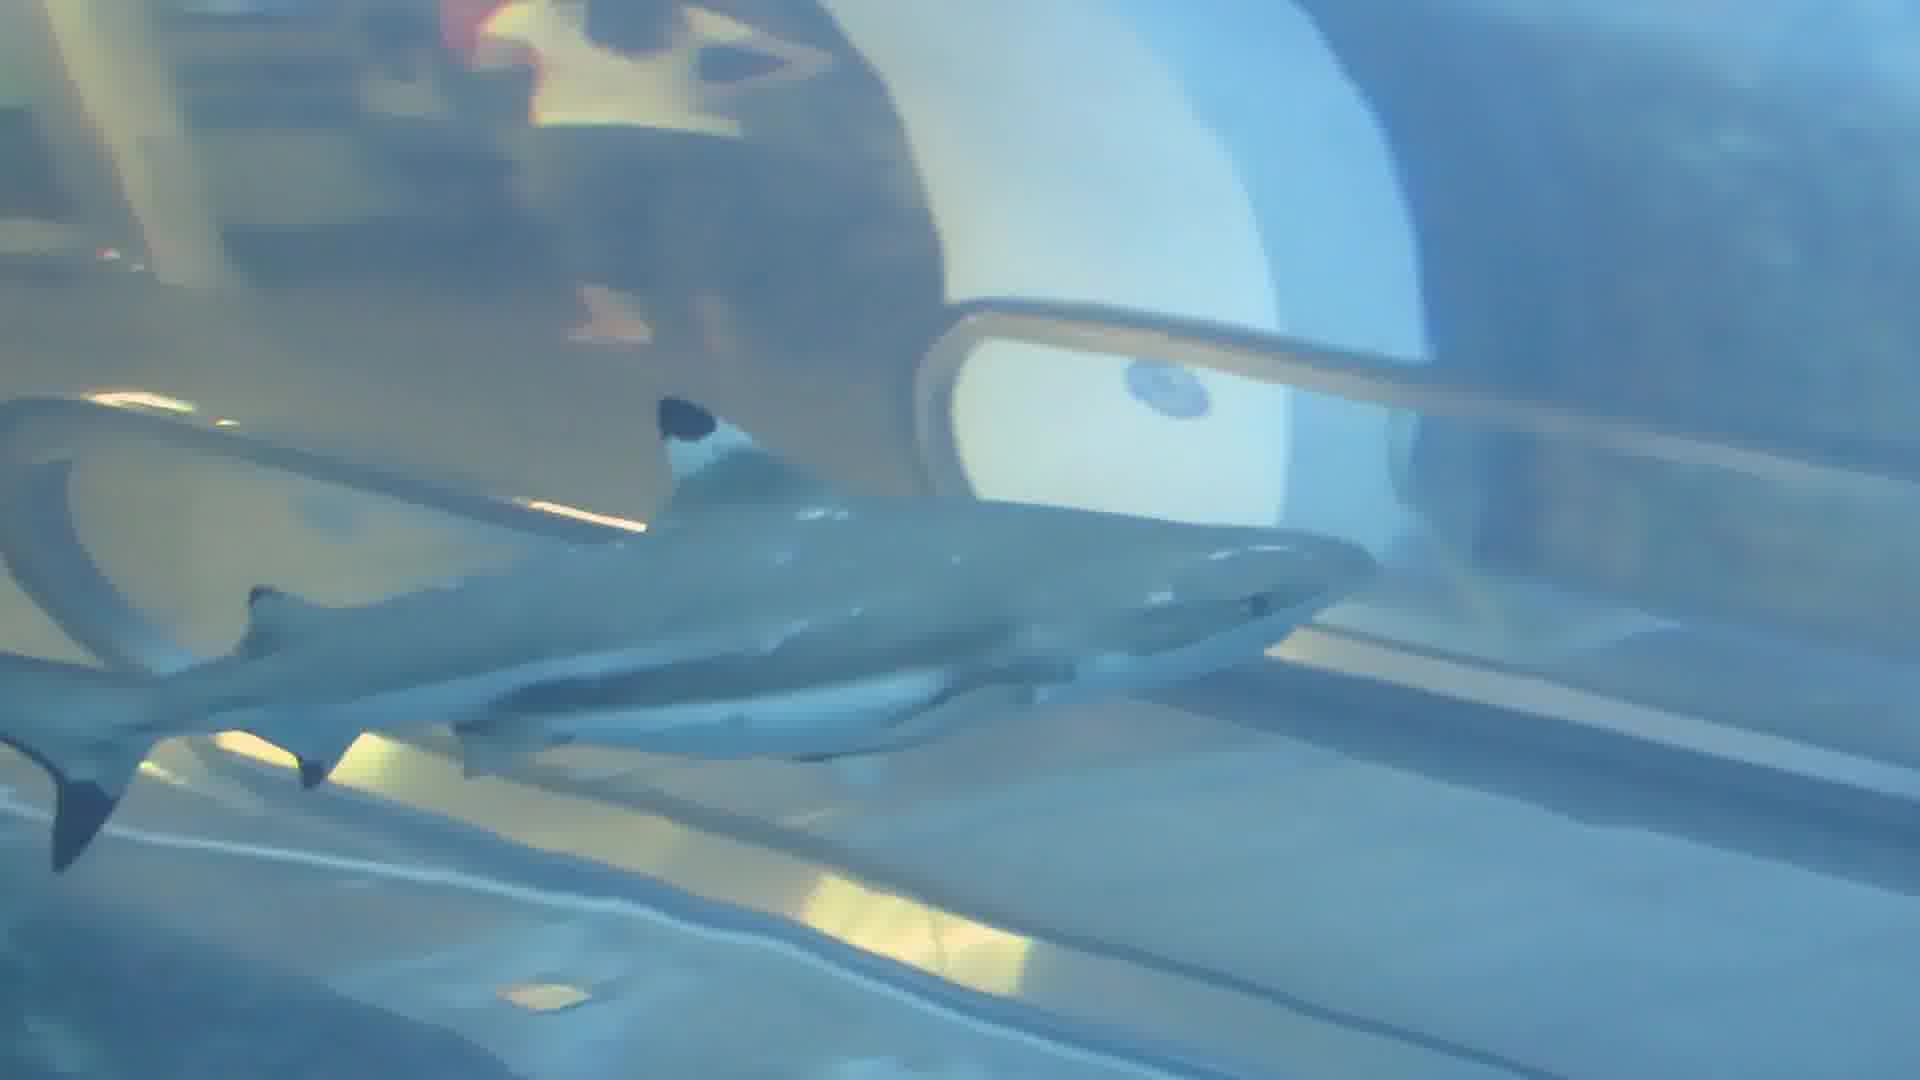Carcharhinus melanopterus: (1, 380, 1374, 887)
